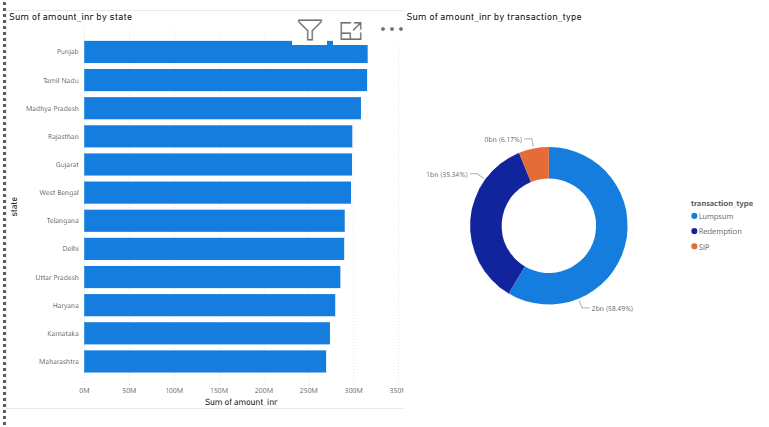

The dashboard page shown, as its layout file describes it:
{"tool":"powerbi","page":{"name":"Investor Analytics","canvas":[1280,720],"ordinal":2},"visuals":[{"type":"clusteredBarChart","fields":{"Category":["investor_transactions_clean.state"],"Y":["Sum(investor_transactions_clean.amount_inr)"]},"box":[0,20.8,674.7,665.2],"z":0},{"type":"donutChart","fields":{"Category":["investor_transactions_clean.transaction_type"],"Y":["Sum(investor_transactions_clean.amount_inr)"]},"box":[661.4,20.8,602.8,699.2],"z":1}]}

Visuals, with their boxes in screenshot pixels (x1, y1, x2, y2), scaled from the page's 1280x720 canvas onto the 769x427 screenshot:
clusteredBarChart - investor_transactions_clean.state x Sum(investor_transactions_clean.amount_inr): crop(0, 12, 405, 407)
donutChart - investor_transactions_clean.transaction_type x Sum(investor_transactions_clean.amount_inr): crop(397, 12, 760, 426)
